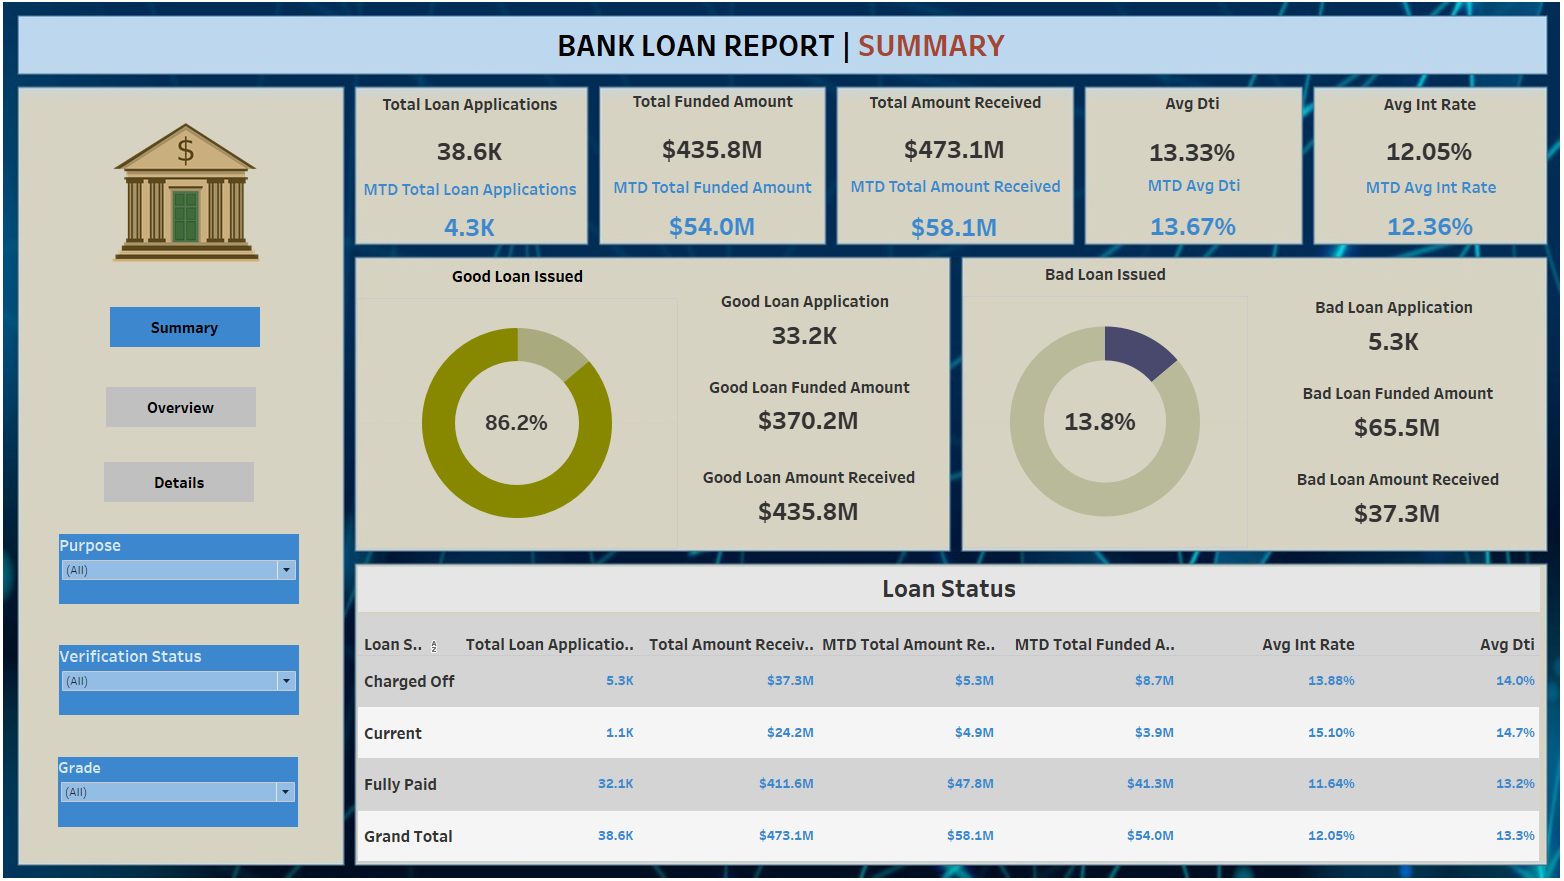

The dashboard page shown, as its layout file describes it:
{"tool":"tableau","page":{"name":"SUMMARY","canvas":[1600,900],"ordinal":2},"visuals":[{"type":"image","param":"Image/Tableau Background.jpg","box":[8,8,1584,884]},{"type":"text","box":[34,25,1530,59]},{"type":"worksheet","title":"Total Funded Amount","mark":"Automatic","box":[619,96,224,89]},{"type":"worksheet","title":"Total Amount Received","mark":"Automatic","box":[854,97,239,87]},{"type":"worksheet","title":"Avg Dti","mark":"Automatic","box":[1101,98,219,90]},{"type":"worksheet","title":"Total Loan Applications","mark":"Automatic","box":[373,99,230,87]},{"type":"worksheet","title":"Avg Int Rate","mark":"Automatic","box":[1333,99,230,86]},{"type":"image","param":"Image/Document bank.png","box":[130,132,180,140]},{"type":"worksheet","title":"MTD Avg Dti","mark":"Automatic","box":[1105,180,214,74]},{"type":"worksheet","title":"MTD Total Amount Received","mark":"Automatic","box":[855,181,237,75]},{"type":"worksheet","title":"MTD Total Funded Amount","mark":"Automatic","box":[617,182,227,70]},{"type":"worksheet","title":"MTD Avg Int Rate","mark":"Automatic","box":[1334,182,230,70]},{"type":"worksheet","title":"MTD Total Loan Applications","mark":"Automatic","box":[373,184,230,69]},{"type":"worksheet","title":"Bad Loan Issued","mark":"Pie","rows":["Calculation_280067657836748802","Calculation_280067657836748802"],"box":[981,269,285,289]},{"type":"worksheet","title":"Good Loan Issued","mark":"Pie","rows":["Calculation_590253082069155846","Calculation_590253082069155846"],"box":[375,271,321,288]},{"type":"worksheet","title":"Good Loan Application","mark":"Automatic","box":[694,296,258,60]},{"type":"worksheet","title":"Bad Loan Application","mark":"Automatic","box":[1282,302,260,60]},{"type":"dashboard-object","box":[128,317,150,40]},{"type":"worksheet","title":"Good Loan Funded Amount","mark":"Automatic","box":[701,382,253,59]},{"type":"worksheet","title":"Bad Loan Funded Amount","mark":"Automatic","box":[1286,388,260,60]},{"type":"dashboard-object","box":[124,397,150,40]},{"type":"worksheet","title":"Good Loan Application %","mark":"Automatic","box":[484,400,102,64]},{"type":"worksheet","title":"Bad Loan Application %","mark":"Automatic","box":[1078,414,104,62]},{"type":"dashboard-object","box":[122,472,150,40]},{"type":"worksheet","title":"Good Loan Amount Received","mark":"Automatic","box":[698,472,258,61]},{"type":"worksheet","title":"Bad Loan Amount Received","mark":"Automatic","box":[1286,474,260,60]},{"type":"filter","title":"Good Loan Issued","param":"[federated.1adml930tu6t5w1aidls701bf2zq].[none:purpose:nk]","box":[77,544,240,70]},{"type":"worksheet","title":"Loan Status","mark":"Automatic","rows":["loan_status"],"box":[376,577,1182,295]},{"type":"filter","title":"Good Loan Issued","param":"[federated.1adml930tu6t5w1aidls701bf2zq].[none:verification_status:nk]","box":[77,655,240,70]},{"type":"filter","title":"Good Loan Issued","param":"[federated.1adml930tu6t5w1aidls701bf2zq].[none:grade:nk]","box":[76,767,240,70]}]}

Visuals, with their boxes in screenshot pixels (x1, y1, x2, y2), scaled from the page's 1600x900 canvas onto the 1564x881 screenshot:
image: box(8, 8, 1556, 873)
text: box(33, 24, 1529, 82)
"Total Funded Amount" worksheet: box(605, 94, 824, 181)
"Total Amount Received" worksheet: box(835, 95, 1068, 180)
"Avg Dti" worksheet: box(1076, 96, 1290, 184)
"Total Loan Applications" worksheet: box(365, 97, 589, 182)
"Avg Int Rate" worksheet: box(1303, 97, 1528, 181)
image: box(127, 129, 303, 266)
"MTD Avg Dti" worksheet: box(1080, 176, 1289, 249)
"MTD Total Amount Received" worksheet: box(836, 177, 1067, 251)
"MTD Total Funded Amount" worksheet: box(603, 178, 825, 247)
"MTD Avg Int Rate" worksheet: box(1304, 178, 1529, 247)
"MTD Total Loan Applications" worksheet: box(365, 180, 589, 248)
"Bad Loan Issued" worksheet (Pie marks): box(959, 263, 1238, 546)
"Good Loan Issued" worksheet (Pie marks): box(367, 265, 680, 547)
"Good Loan Application" worksheet: box(678, 290, 931, 348)
"Bad Loan Application" worksheet: box(1253, 296, 1507, 354)
dashboard-object: box(125, 310, 272, 349)
"Good Loan Funded Amount" worksheet: box(685, 374, 933, 432)
"Bad Loan Funded Amount" worksheet: box(1257, 380, 1511, 439)
dashboard-object: box(121, 389, 268, 428)
"Good Loan Application %" worksheet: box(473, 392, 573, 454)
"Bad Loan Application %" worksheet: box(1054, 405, 1155, 466)
dashboard-object: box(119, 462, 266, 501)
"Good Loan Amount Received" worksheet: box(682, 462, 934, 522)
"Bad Loan Amount Received" worksheet: box(1257, 464, 1511, 523)
"Good Loan Issued" filter: box(75, 533, 310, 601)
"Loan Status" worksheet: box(368, 565, 1523, 854)
"Good Loan Issued" filter: box(75, 641, 310, 710)
"Good Loan Issued" filter: box(74, 751, 309, 819)
